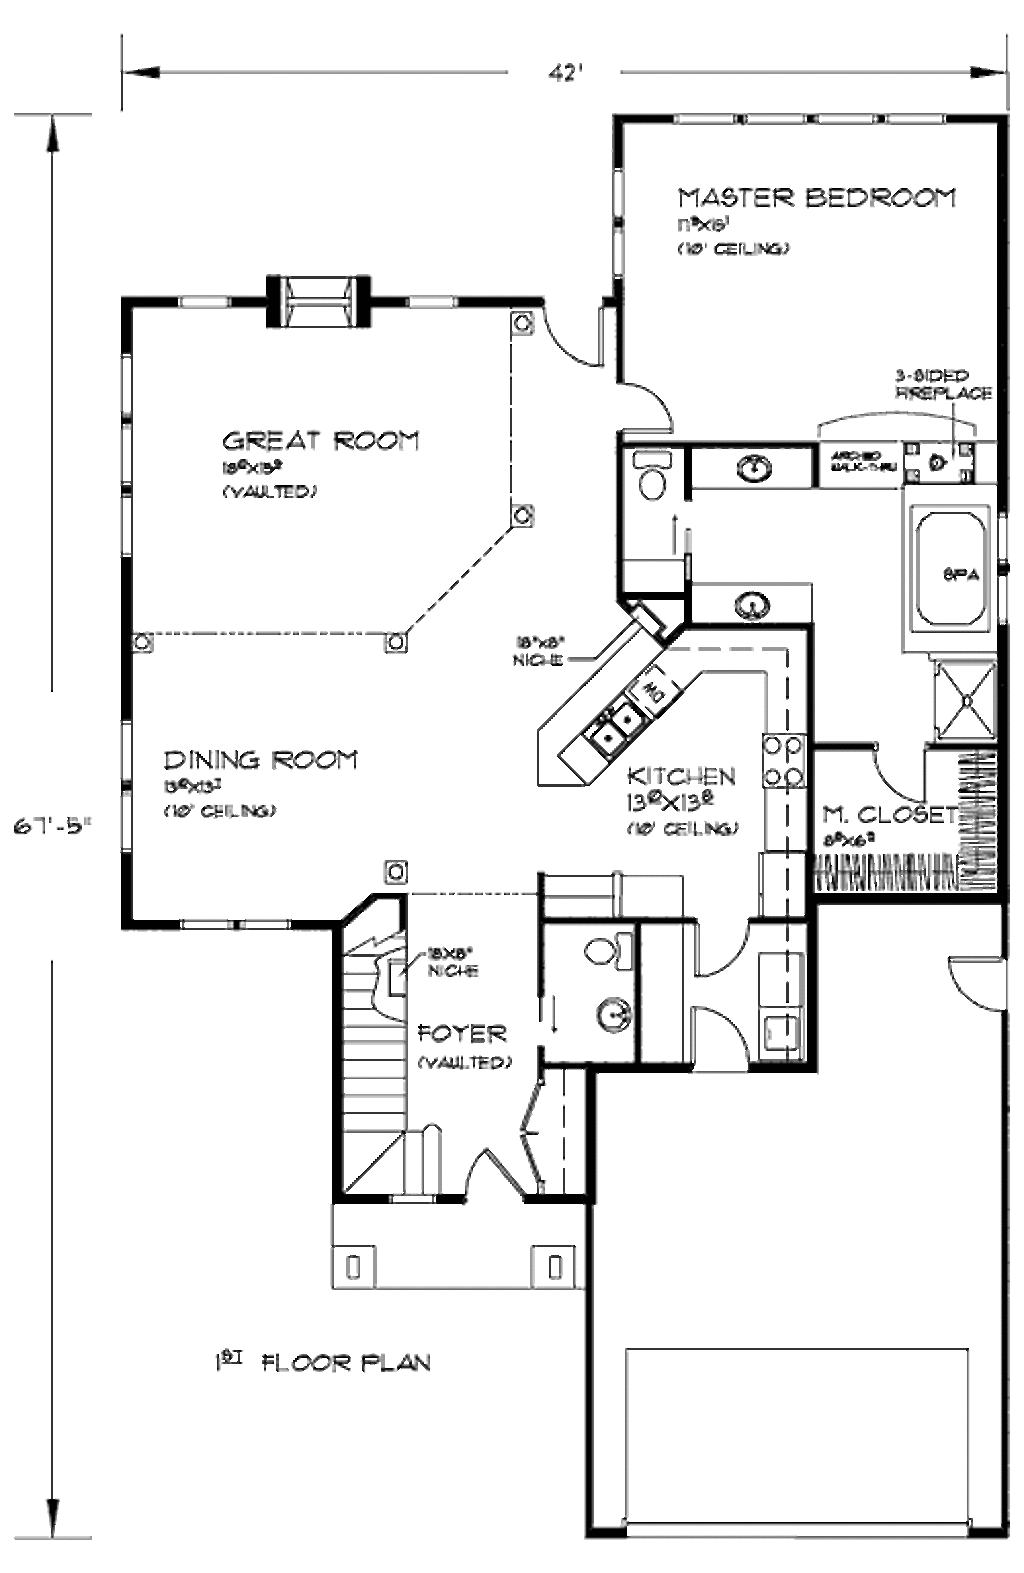door: (507, 1075, 563, 1214), (690, 987, 753, 1091), (607, 371, 702, 438), (539, 287, 609, 371), (870, 738, 941, 819), (443, 1136, 519, 1210), (929, 953, 1013, 1019), (702, 924, 743, 987)
large_sink: (630, 451, 690, 516), (578, 929, 641, 983)
small_sink: (687, 446, 831, 496), (678, 587, 810, 633), (570, 987, 641, 1058)
stairs: (321, 877, 448, 1207)
tub: (890, 496, 990, 636)
twin_sink: (568, 692, 660, 775)
window: (682, 102, 975, 136), (104, 353, 141, 563), (117, 723, 141, 851), (175, 909, 292, 933), (397, 282, 453, 319), (161, 290, 236, 316)
